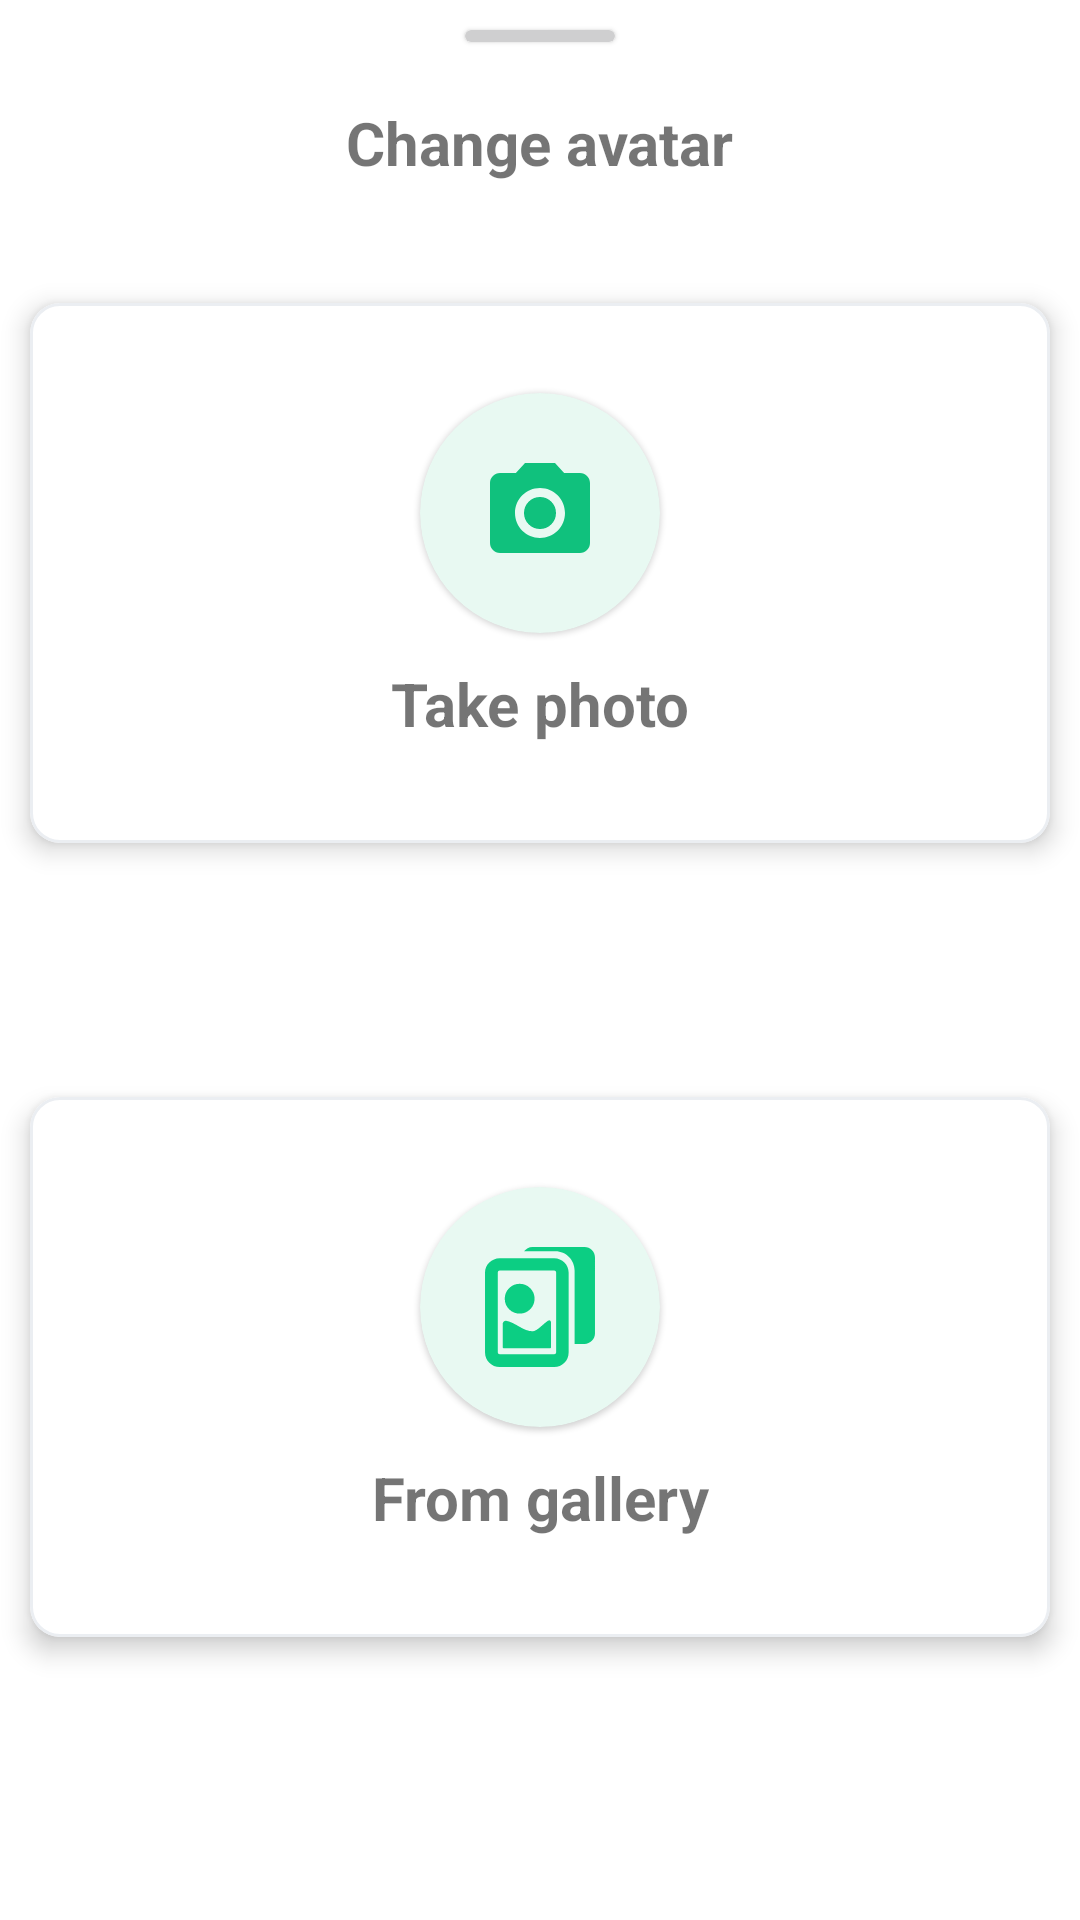

Screen size 1080x1920. Icon name, then its box in pixels as (x1, y1, x2, y2):
camera: (420, 393, 660, 633)
